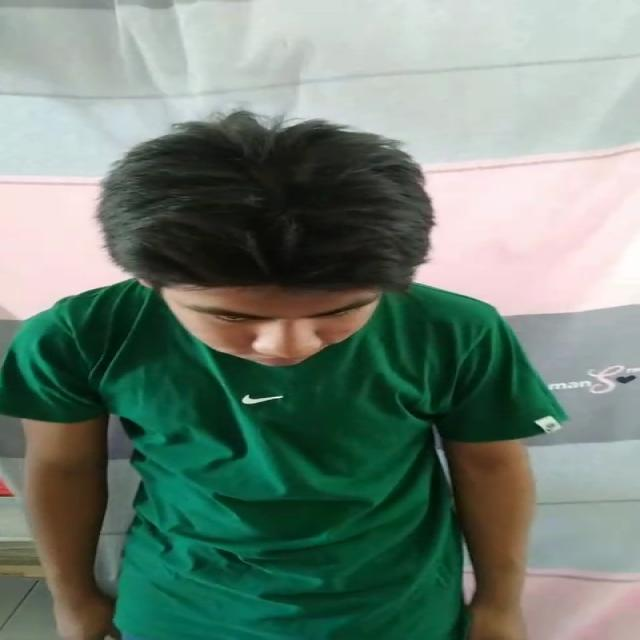9_cabeza_baja: (96, 108, 436, 368)
